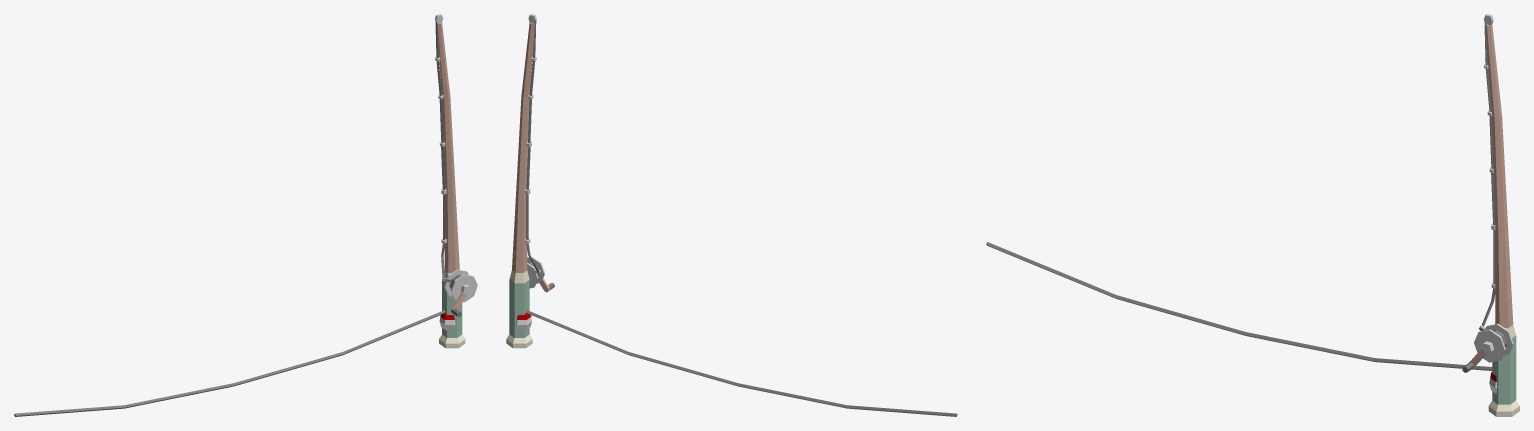
Rendered from FishingRod.fbx.
3 views of the same model, side by side, from view 1: azimuth 30°, elevation 25°; view 2: azimuth 150°, elevation 25°; view 3: azimuth 330°, elevation 25° (orthographic). The views are drawn at different scales.
Parts seen in each view (by area): view 1: Rod, Line; view 2: Rod, Line; view 3: Rod, Line.
Part boxes in pixels (x1,y1,x2,y2): Rod: [435, 14, 477, 348]; Line: [14, 310, 445, 416]; Rod: [506, 14, 554, 348]; Line: [526, 310, 957, 416]; Rod: [1462, 14, 1519, 416]; Line: [986, 242, 1492, 370].
Bounding box in the file's own units: 1.03 × 0.7292 × 0.1062.
